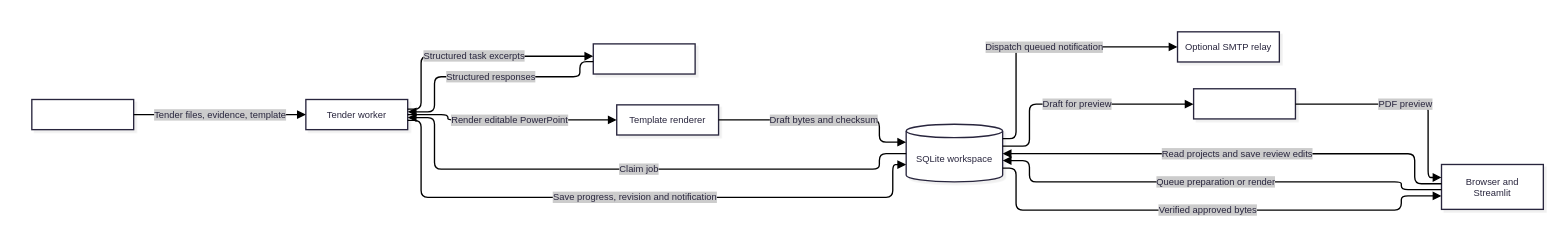
This 1558x228 diagram has some shape labels left out. The centre of each missing label's shape, as x and y in pixels:
"Gemini or Requesty" belongs at (645,60).
"Optional LibreOffice" belongs at (1245,105).
"Participant folder" belongs at (84,115).
